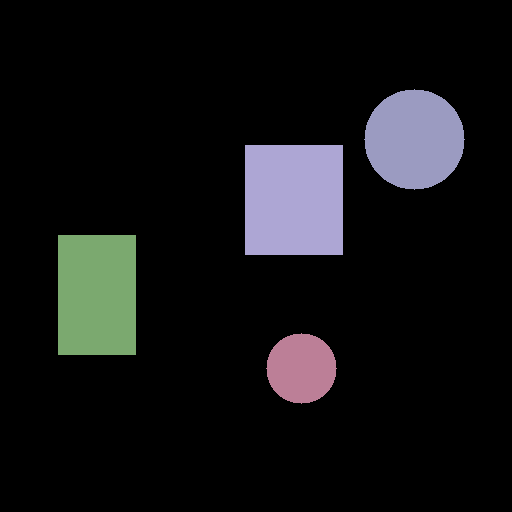circle: (364, 89, 464, 189), (266, 333, 336, 403)
rectangle: (245, 145, 342, 254), (58, 235, 135, 354)
